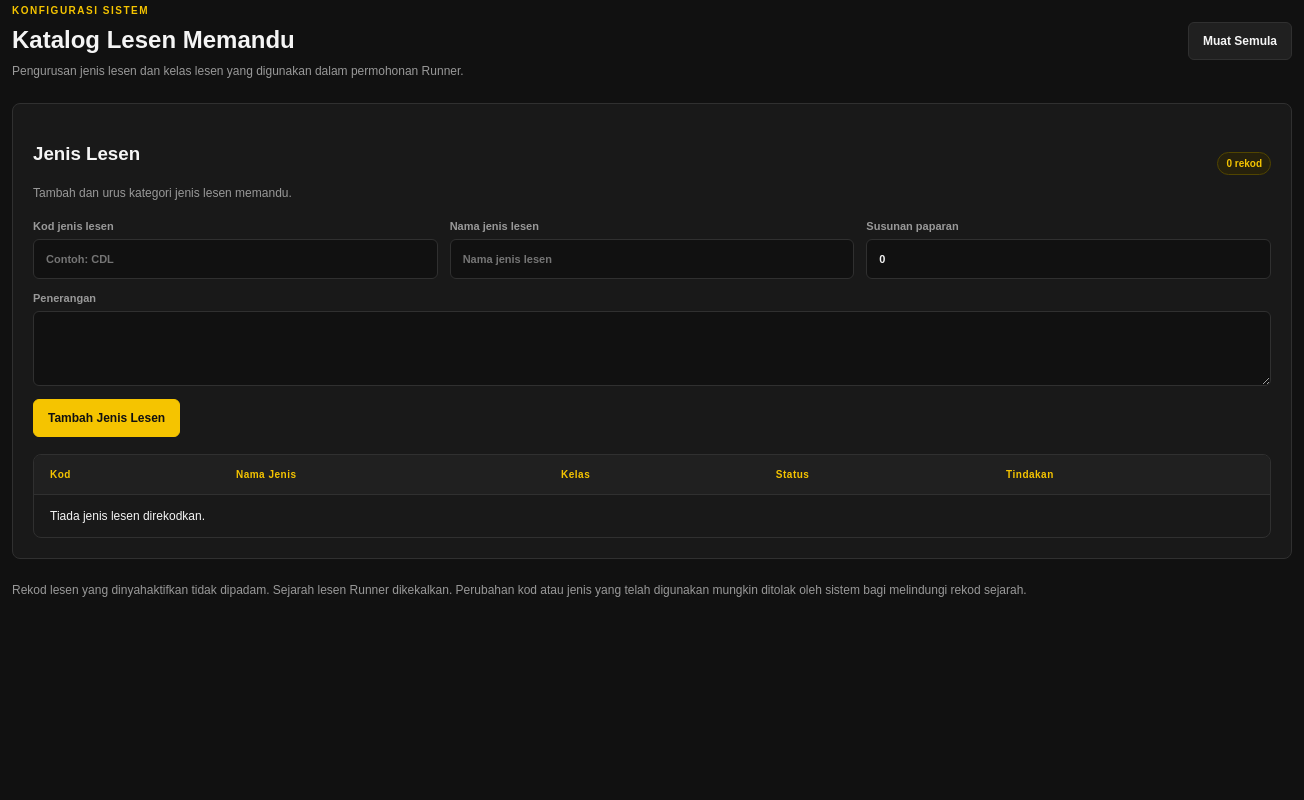
DrivingLicenseCatalogPage › menghantar data jenis lesen dengan kod dinormalkan
expect the heading "Jenis Lesen" is shown: met, box [33,143,140,164]
In the field labelled "Kod jenis lesen": (235,259) [33,239,438,279], type " cdl "
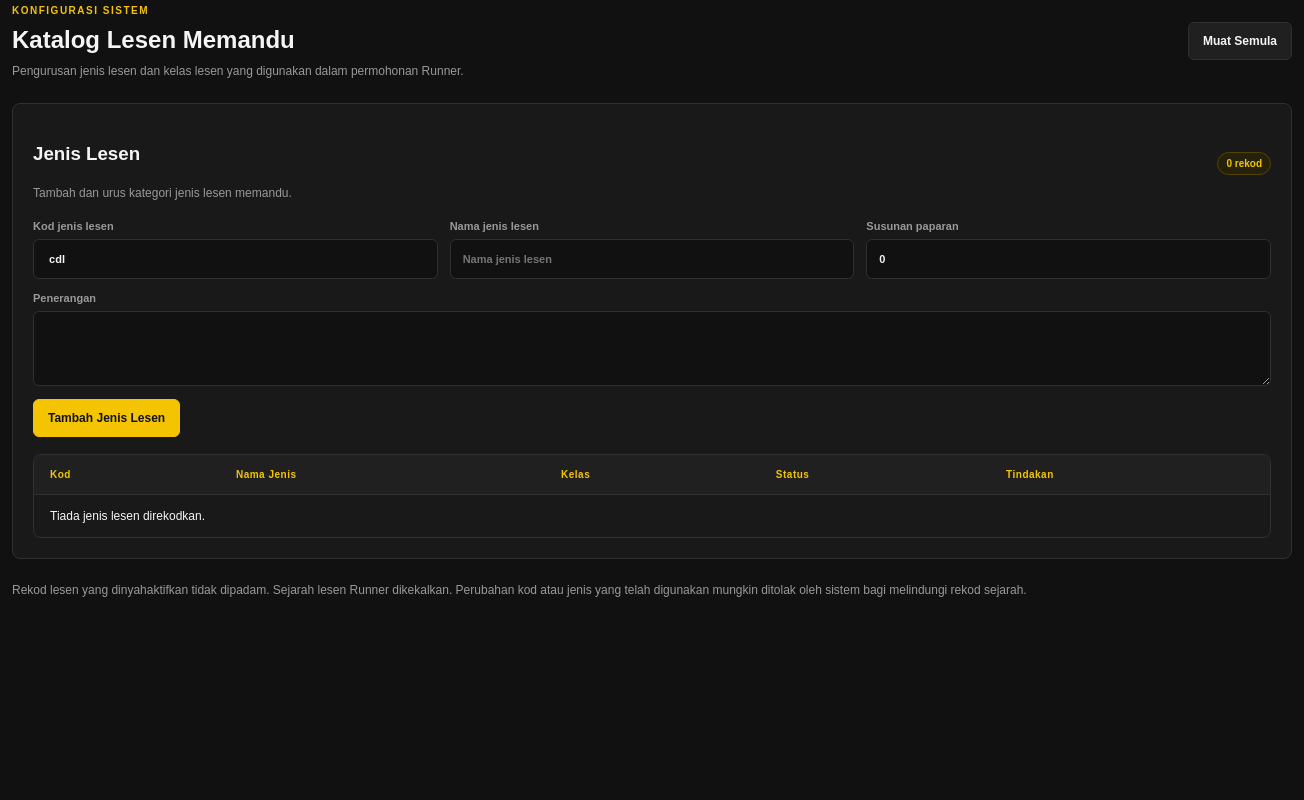
In the field labelled "Nama jenis lesen": (652,259) [450,239,854,279], type "Competent Driving Licence"
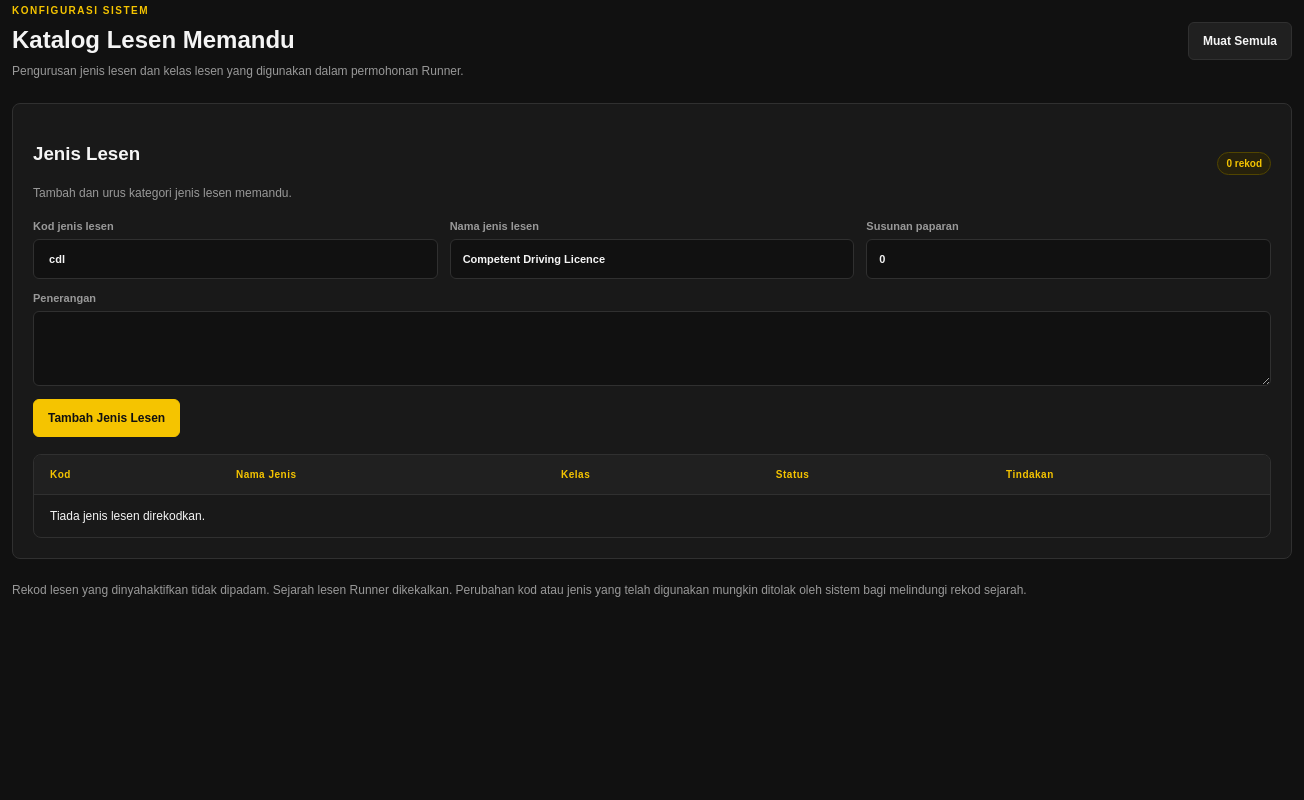
Click the button "Tambah Jenis Lesen": (107,418) [33,399,180,437]
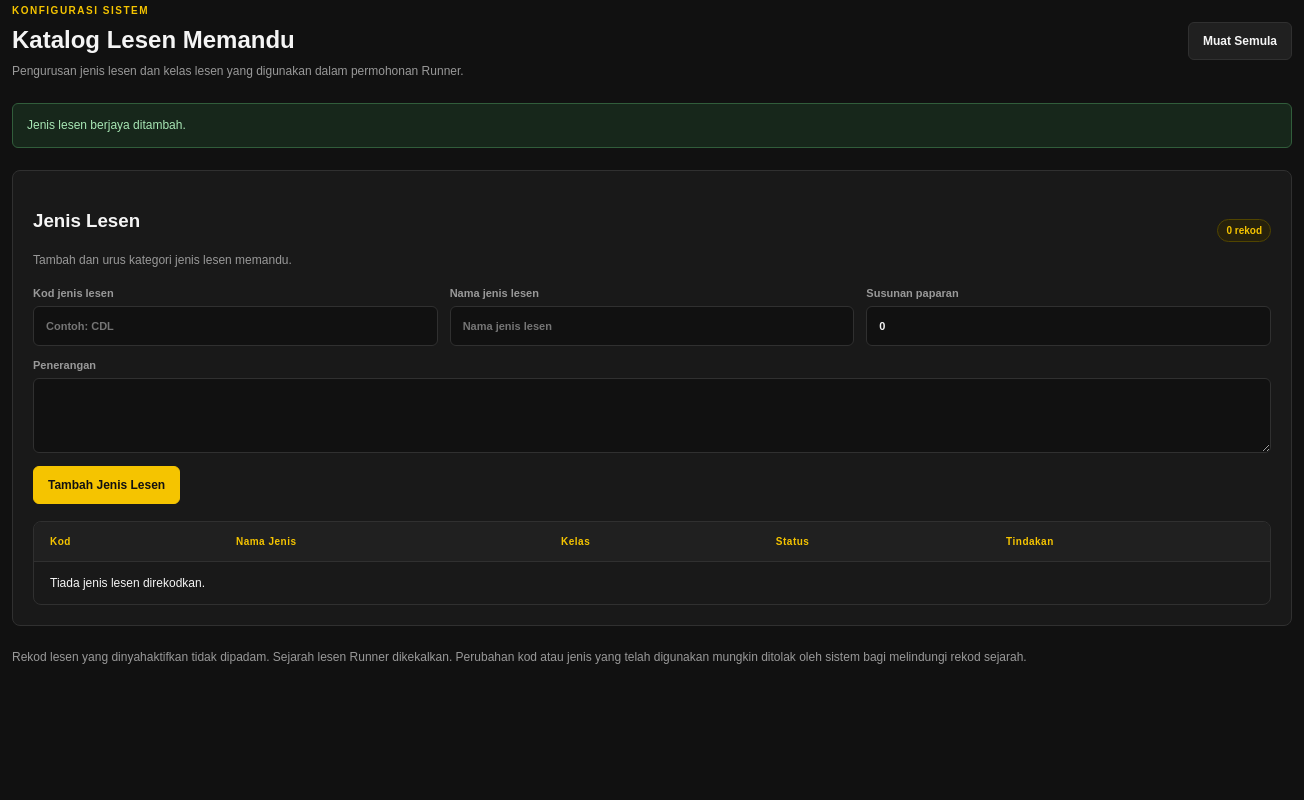
expect the text "Jenis lesen berjaya ditambah." is shown: met, box [12,103,1292,148]
